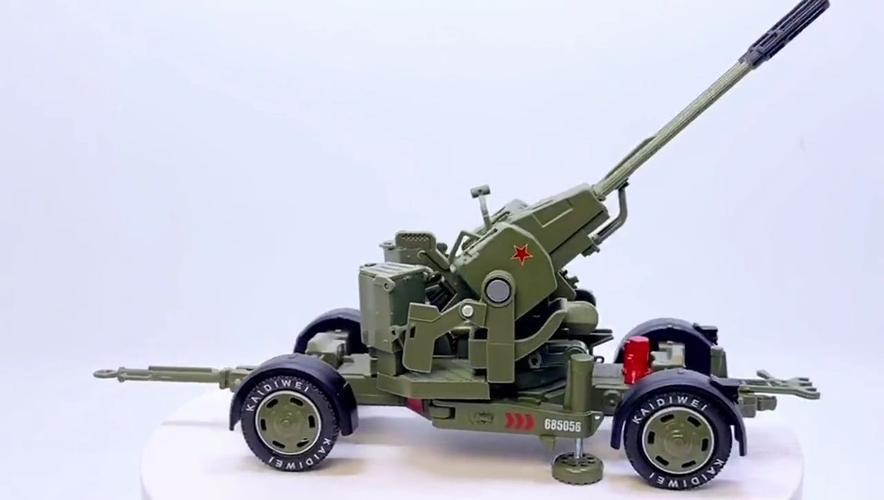MIL_SPG: (95, 0, 829, 489)
